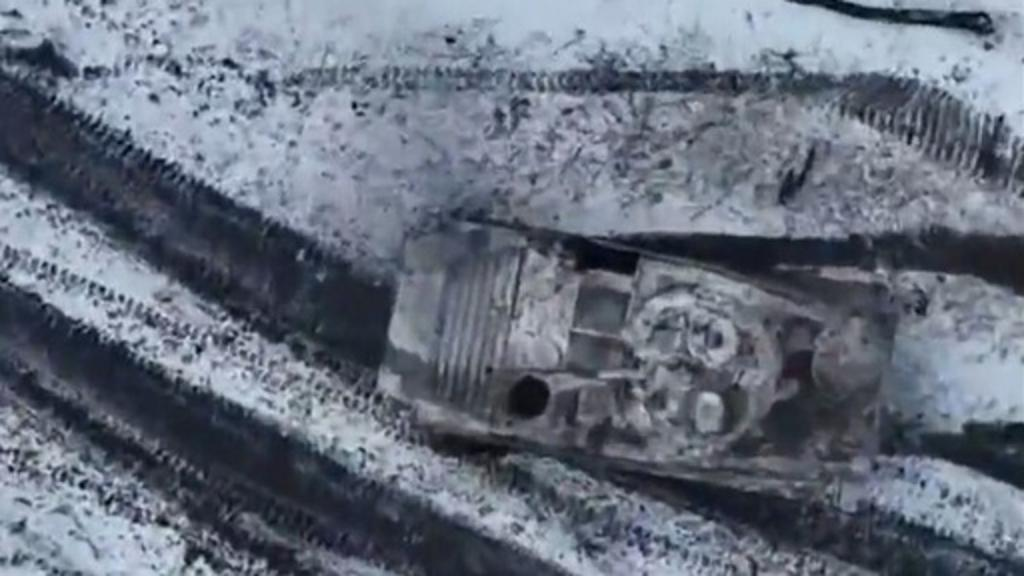APC-IFV: (360, 182, 904, 508)
